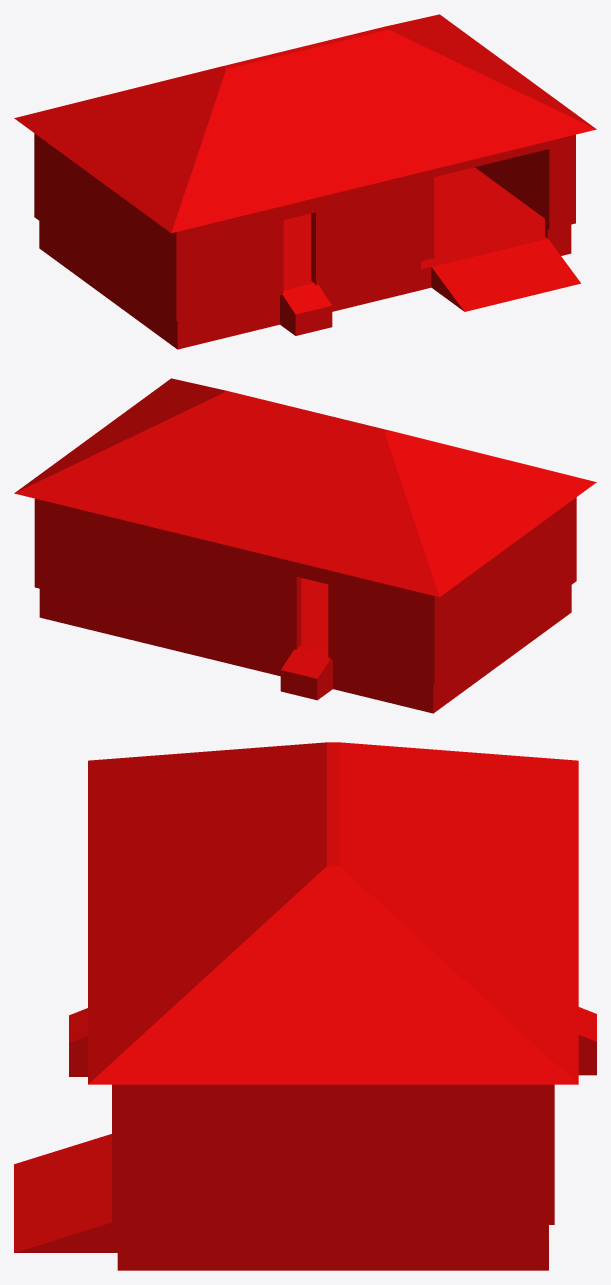
The model's file is SM_Bld_House_02_Collision.fbx.
The picture shows the model from 3 angles, top to bottom: view 1: azimuth 30°, elevation 25°; view 2: azimuth 150°, elevation 25°; view 3: azimuth 270°, elevation 25°; orthographic projection. The views are drawn at different scales.
Visible parts, largest first — view 1: SM_Bld_House_02_Collision; view 2: SM_Bld_House_02_Collision; view 3: SM_Bld_House_02_Collision.
Part boxes in pixels (<box>): SM_Bld_House_02_Collision: <box>14,14,596,349</box>; SM_Bld_House_02_Collision: <box>14,378,596,713</box>; SM_Bld_House_02_Collision: <box>14,742,596,1270</box>.
Bounding box in the file's own units: 1382 × 630 × 1050.
